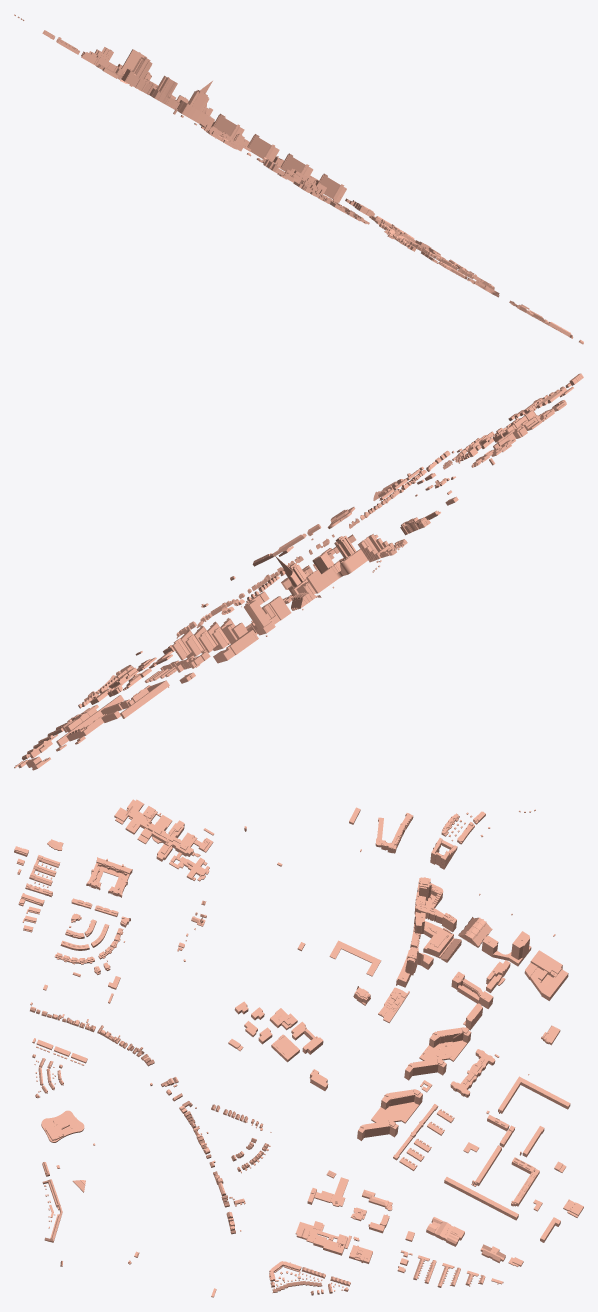
3 views of the same model, one above another, from view 1: azimuth 30°, elevation 25°; view 2: azimuth 150°, elevation 25°; view 3: azimuth 270°, elevation 25° (orthographic). The views are drawn at different scales.
Size of the model in its own units: 3.36e+07 by 2.56e+07 by 4.2e+07.
